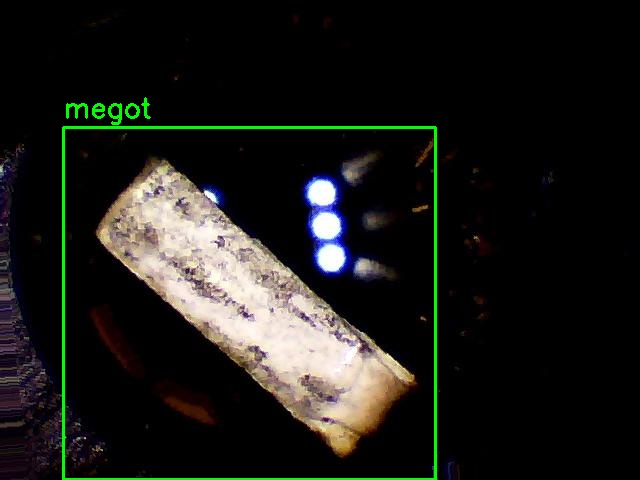megot: (63, 127, 435, 479)
